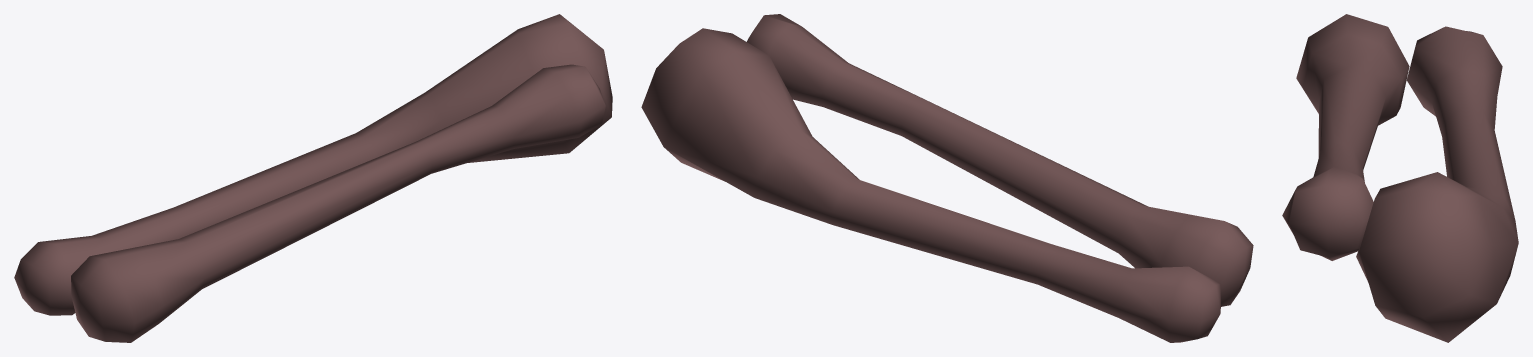
The model's file is SM_HumanSkeletonForearm.FBX.
3 views of the same model, side by side, from view 1: azimuth 30°, elevation 25°; view 2: azimuth 150°, elevation 25°; view 3: azimuth 270°, elevation 25° (orthographic). The views are drawn at different scales.
Visible parts, largest first — view 1: SM_HumanSkeletonForearm; view 2: SM_HumanSkeletonForearm; view 3: SM_HumanSkeletonForearm.
Part boxes in pixels (bbox=[...]): SM_HumanSkeletonForearm: bbox=[14, 14, 612, 342]; SM_HumanSkeletonForearm: bbox=[641, 14, 1253, 342]; SM_HumanSkeletonForearm: bbox=[1282, 14, 1518, 342].
Size of the model in its own units: 49.07 by 14.97 by 14.7.
